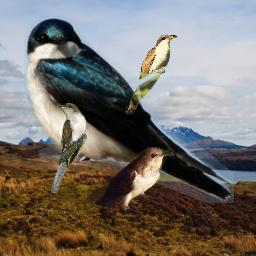Cuckoo: (87, 147, 175, 211), (124, 33, 178, 115), (51, 103, 87, 193)
Swallow: (24, 16, 234, 203)
